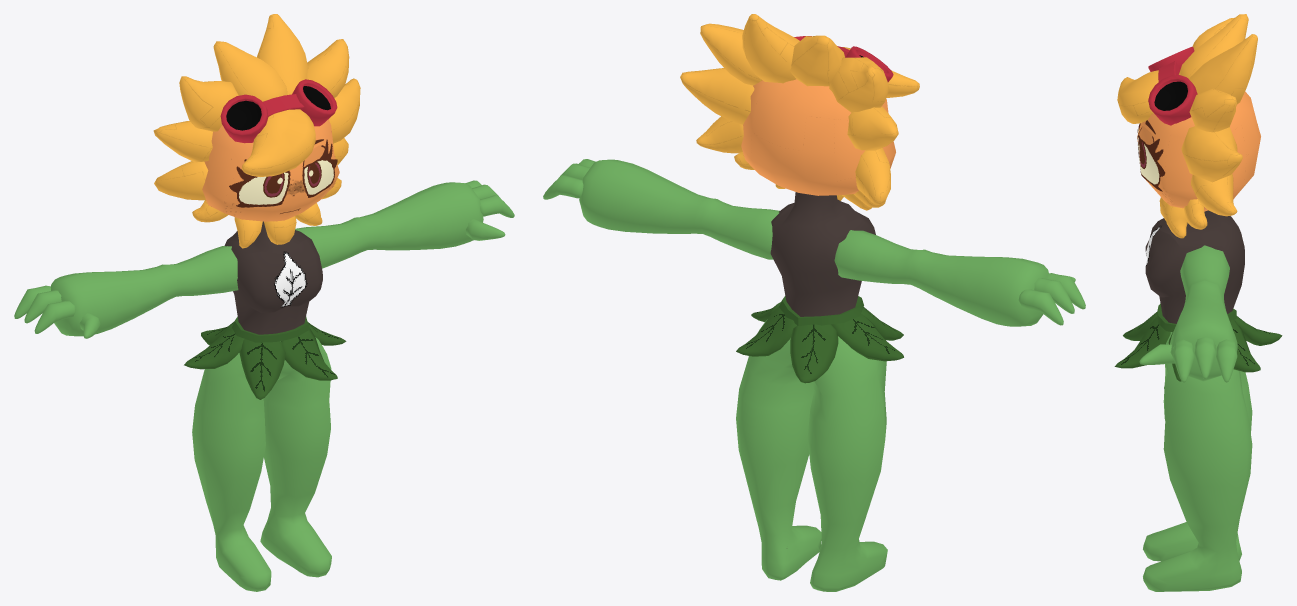
Rendered from solar-flare---pvz-fa30cb.glb.
3 views of the same model, side by side, from view 1: azimuth 30°, elevation 25°; view 2: azimuth 150°, elevation 25°; view 3: azimuth 270°, elevation 25° (orthographic). The views are drawn at different scales.
Parts seen in each view (by area): view 1: PropMesh; view 2: PropMesh; view 3: PropMesh.
Part boxes in pixels (x1=…): PropMesh: x1=14, y1=14, x2=514, y2=591; PropMesh: x1=543, y1=14, x2=1085, y2=591; PropMesh: x1=1114, y1=14, x2=1282, y2=591.
Size of the model in its own units: 0.9524 by 1 by 0.2744.
10 materials, 10 textured.
